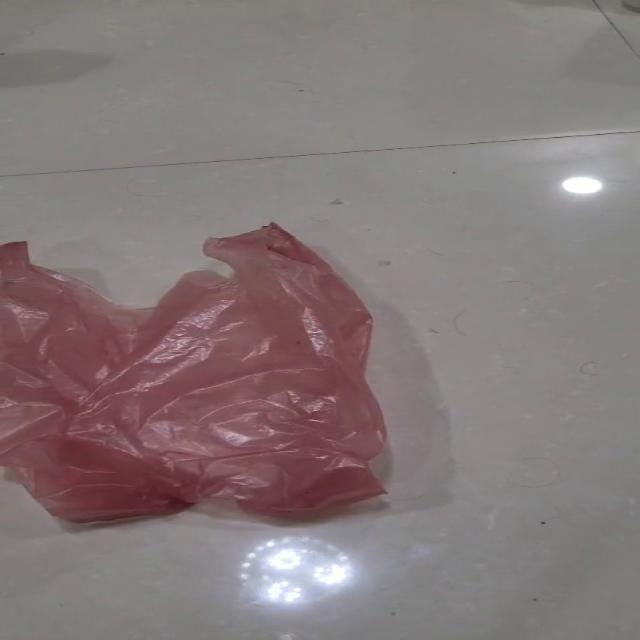plastic: (0, 221, 390, 524)
